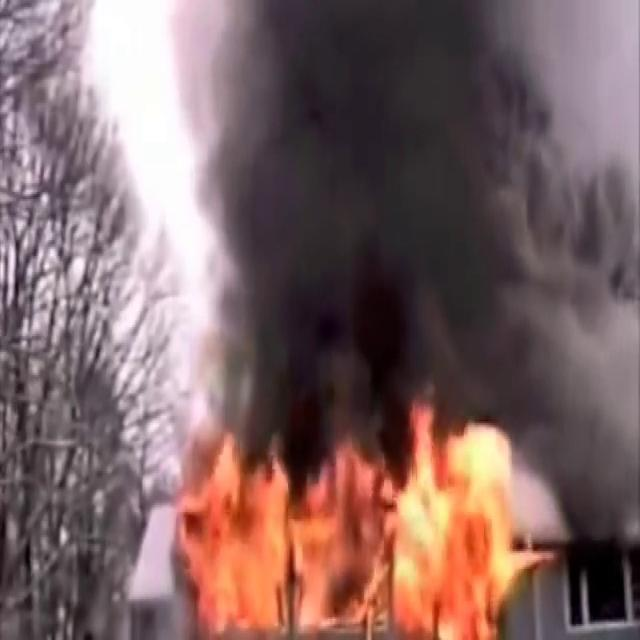Fire: (171, 394, 535, 640)
Smoke: (157, 0, 638, 471)
